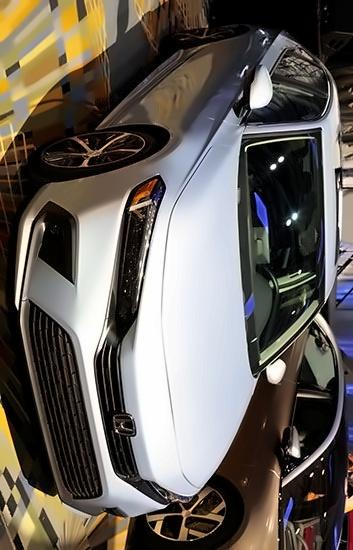Car hood: (117, 116, 261, 499)
Driver-s door - -F-R-: (92, 67, 346, 130)
Fender - -F-R-: (98, 113, 239, 187)
Front bumper: (14, 169, 166, 524)
Headlight - -L-: (130, 481, 196, 510)
Headlight - -R-: (105, 171, 165, 344)
Passenger-s door - -R-R-: (125, 32, 348, 93)
Side bumper - -R-: (67, 37, 189, 130)
Side mirror - -L-: (261, 358, 290, 386)
Side mirror - -R-: (230, 62, 273, 115)
